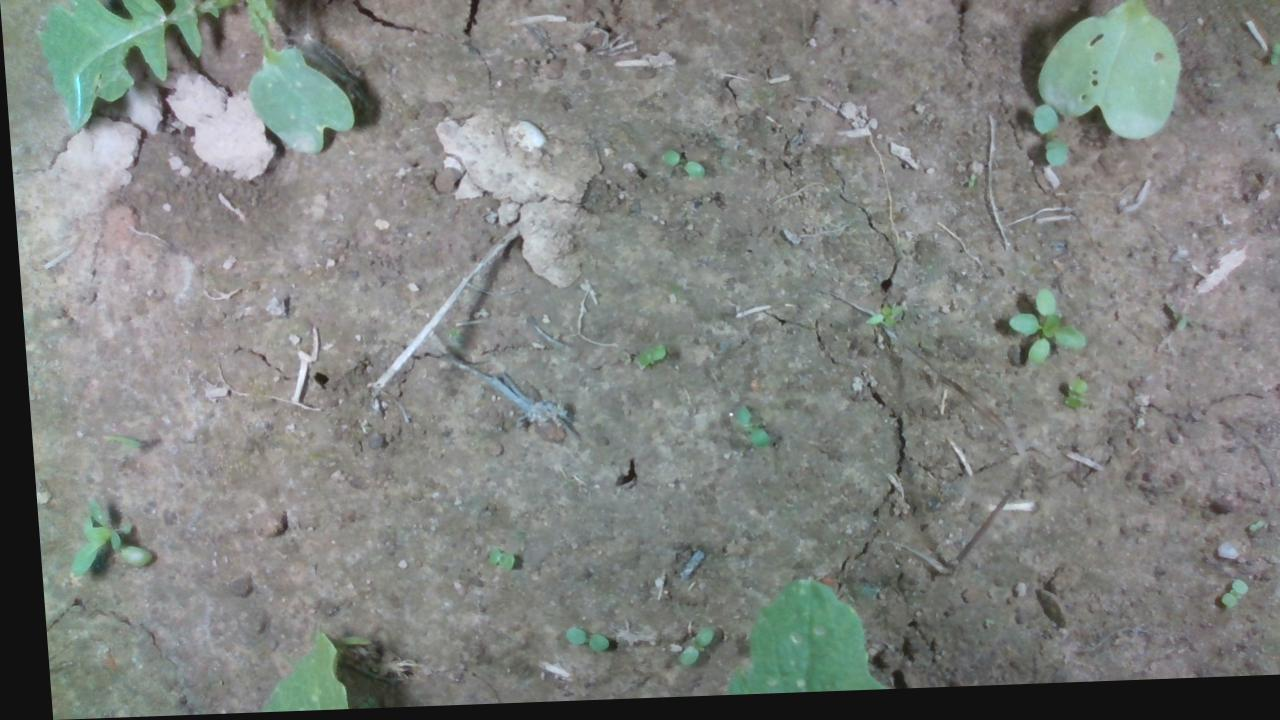weed: (724, 407, 764, 453), (665, 631, 704, 671), (657, 152, 702, 184), (552, 627, 599, 657), (1052, 383, 1081, 419), (1207, 586, 1239, 618), (626, 349, 661, 371), (476, 551, 505, 572), (1237, 527, 1256, 543)
